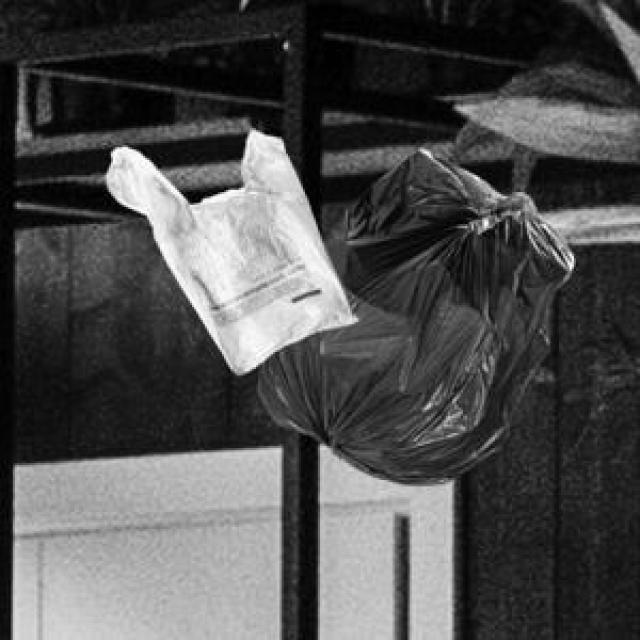miscellaneous trash: (254, 145, 570, 482)
